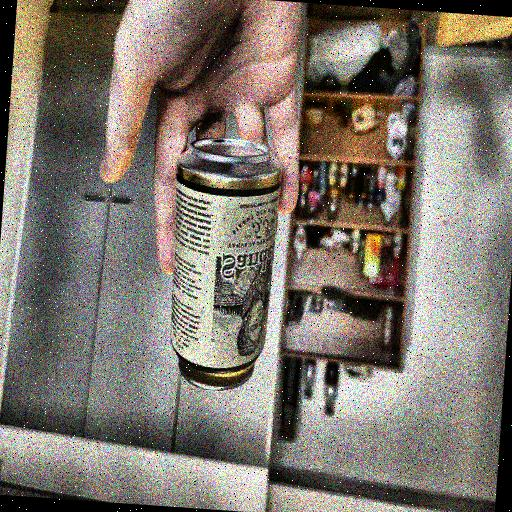sandels: (158, 136, 284, 385)
